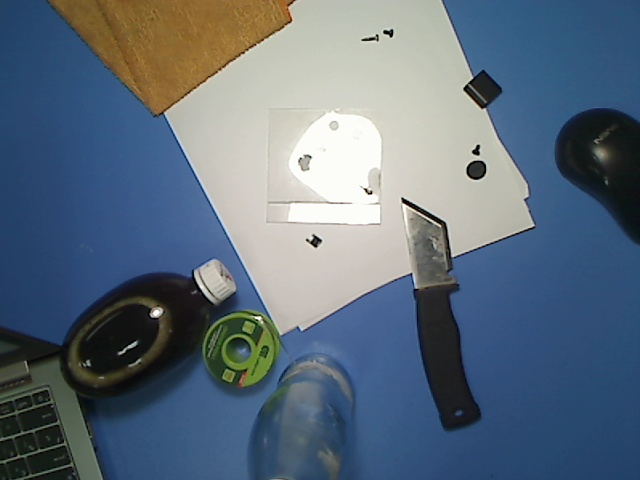plast_bottle: (57, 252, 241, 403)
